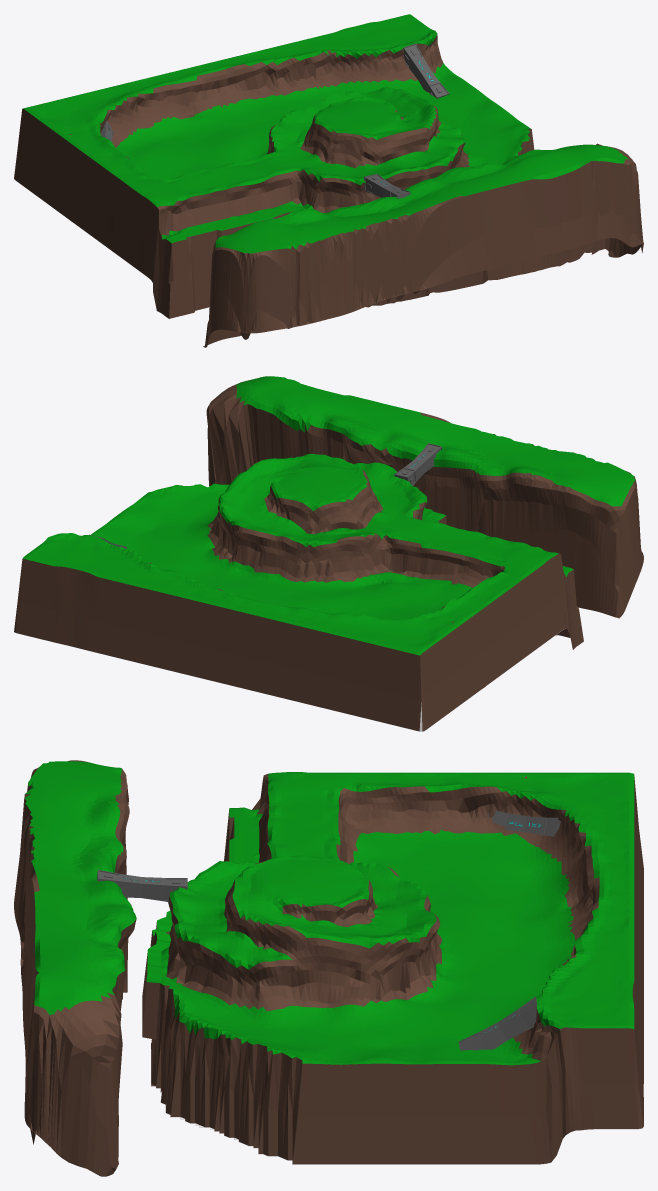
Rendered from GrassyFlatlands.fbx.
The picture shows the model from 3 angles, top to bottom: view 1: azimuth 30°, elevation 25°; view 2: azimuth 150°, elevation 25°; view 3: azimuth 270°, elevation 25°; orthographic projection. The views are drawn at different scales.
Parts seen in each view (by area): view 1: Ground, Pillar.001, Pillar.002; view 2: Ground, Pillar.002; view 3: Ground, Pillar.001, Pillar.002, Pillar.003.
Boxes of the visible parts, x1,y1,x2,y2 form: Ground: (14, 14, 643, 347); Pillar.001: (403, 43, 449, 98); Pillar.002: (364, 173, 410, 198); Ground: (14, 376, 643, 731); Pillar.002: (394, 443, 442, 485); Ground: (14, 760, 643, 1176); Pillar.001: (458, 996, 537, 1050); Pillar.002: (97, 870, 187, 901); Pillar.003: (487, 810, 560, 836).
Size of the model in its own units: 6264 by 1899 by 6054.
